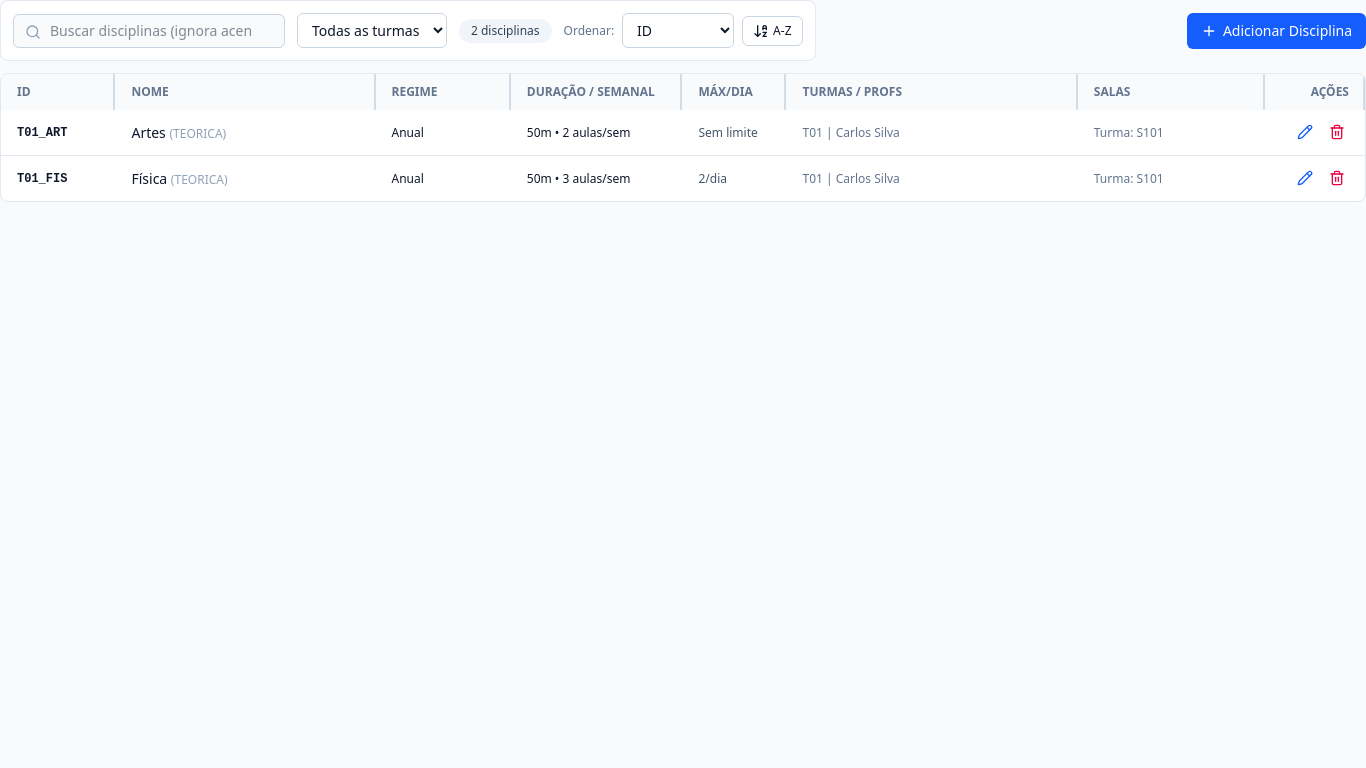
DisciplinasTab › displays Máx/Dia column (including Sem limite for 0) and saves updated max_aulas_por_dia_turma
Later steps or results of the test are not shown.
Expected: the text "2/dia" is shown, top-left (682, 156), bottom-right (786, 201)
Expected: the text "Sem limite" is shown, top-left (682, 110), bottom-right (786, 156)
Click the button named "Editar Física": (1305, 178) top-left (1293, 166), bottom-right (1317, 190)
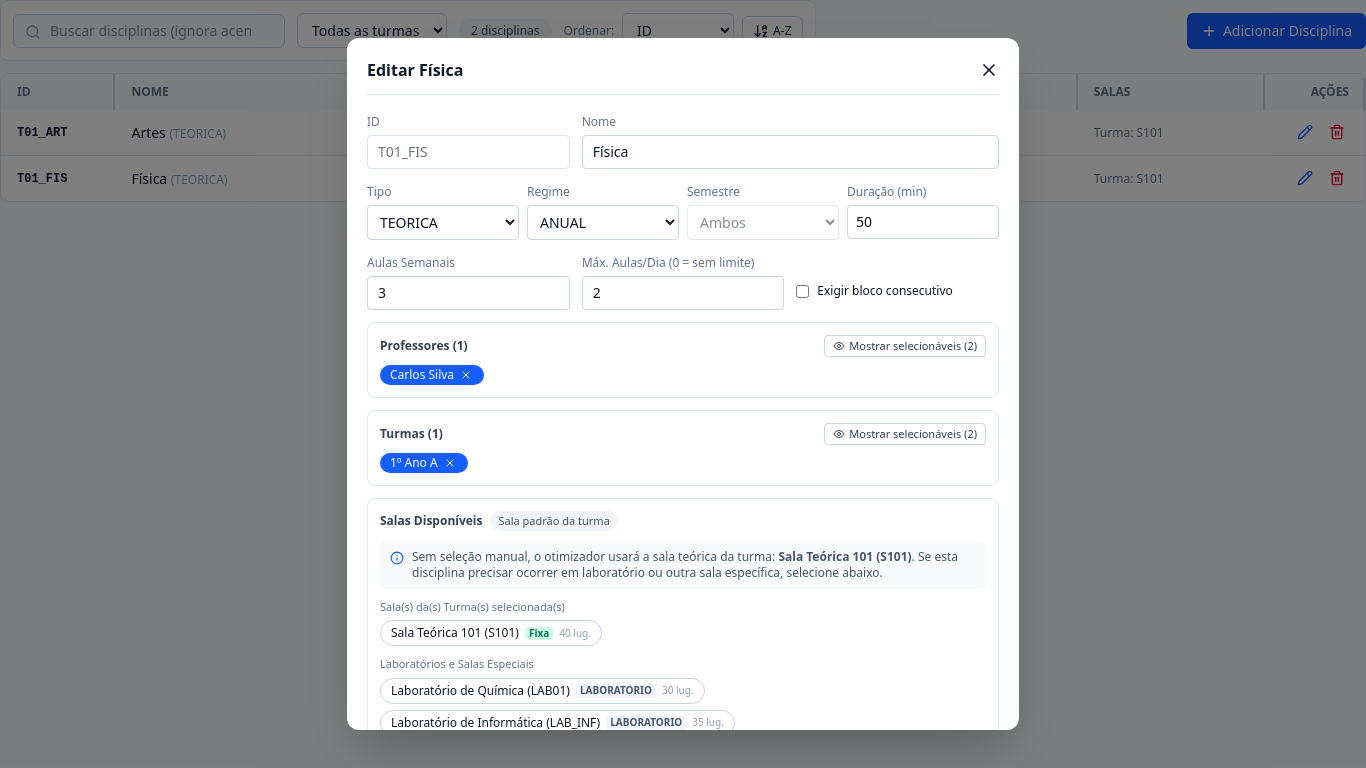
Expected: the number field labelled "Máx. Aulas/Dia (0 = sem limite)" holds "2", top-left (582, 276), bottom-right (784, 310)
